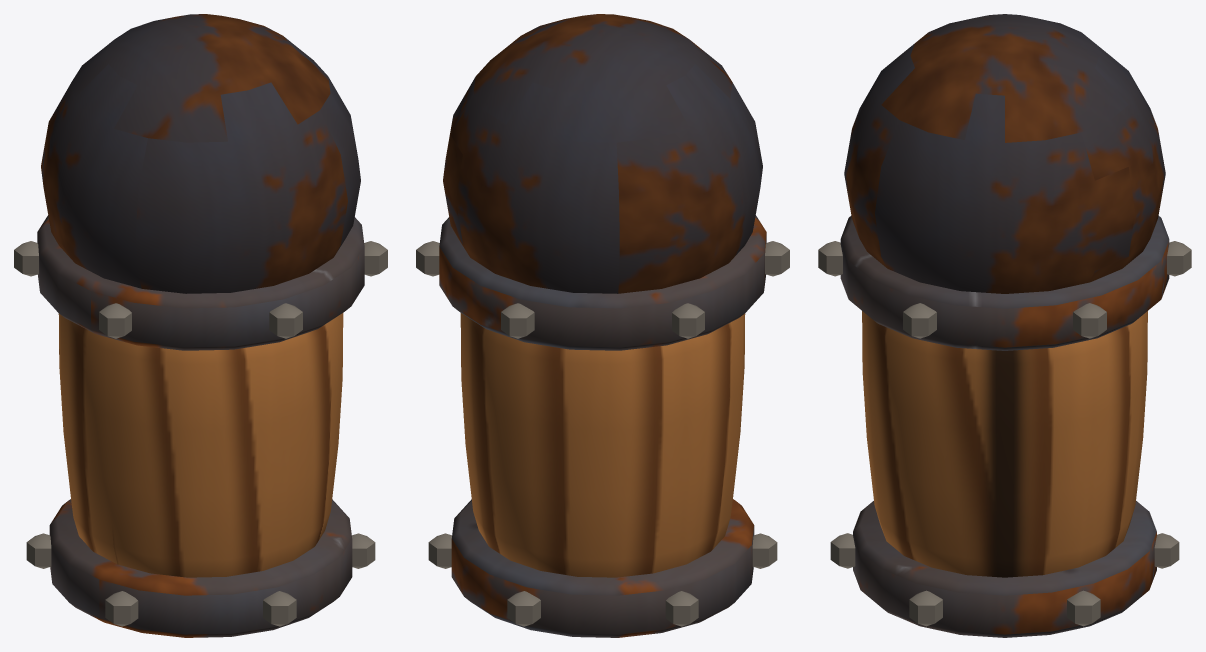
Rendered from LowerLeg_R.glb.
The picture shows the model from 3 angles, left to right: view 1: azimuth 30°, elevation 25°; view 2: azimuth 150°, elevation 25°; view 3: azimuth 270°, elevation 25°; orthographic projection.
Parts seen in each view (by area): view 1: LowerLeg_R; view 2: LowerLeg_R; view 3: LowerLeg_R.
Part boxes in pixels (bbox=[...]): LowerLeg_R: bbox=[14, 14, 387, 637]; LowerLeg_R: bbox=[416, 14, 789, 637]; LowerLeg_R: bbox=[818, 14, 1191, 637].
Size of the model in its own units: 0.184 by 0.3389 by 0.2091.
Materials: 4 (3 with a texture image).
